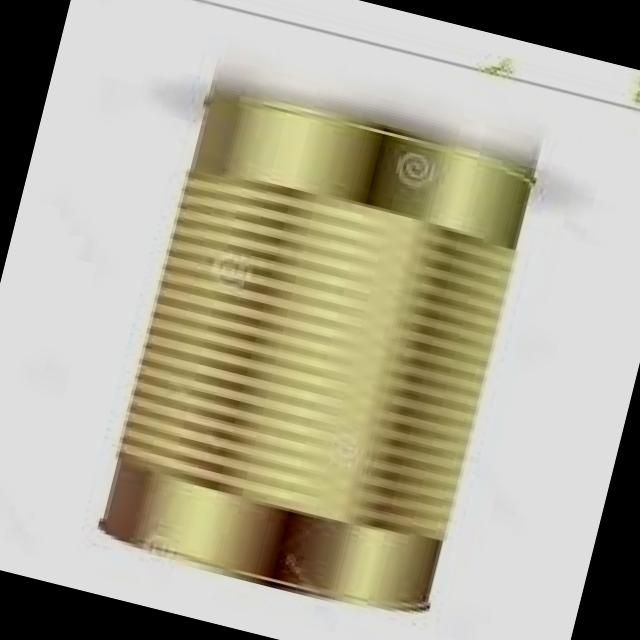kim_loai: (97, 88, 532, 609)
